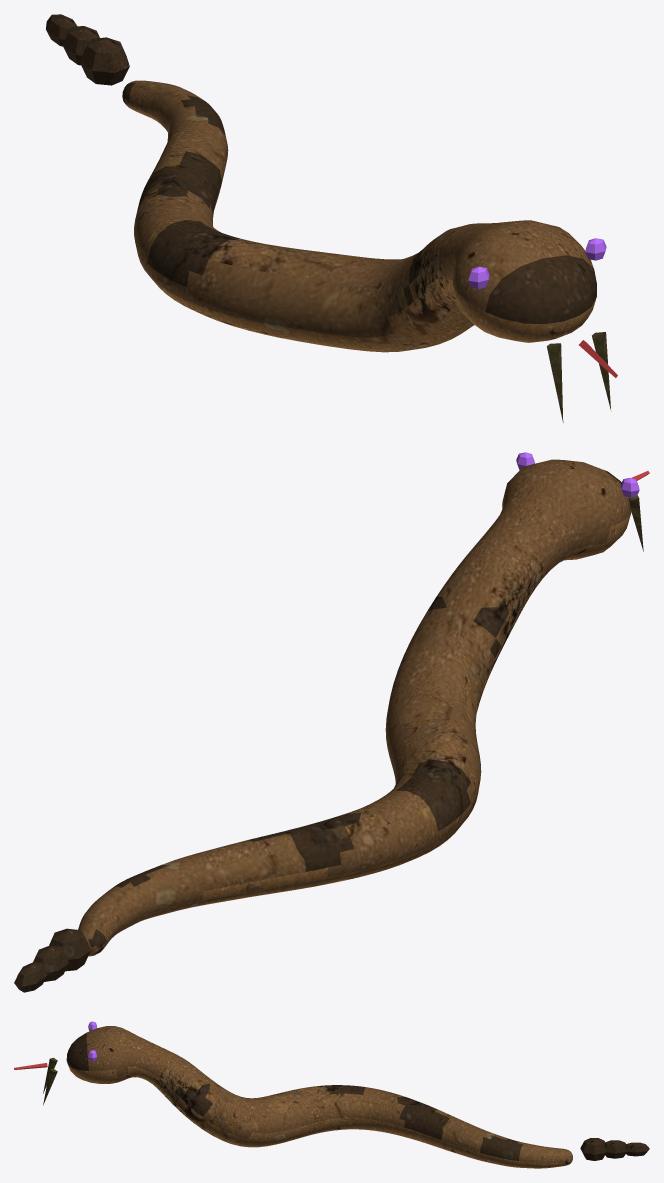
File: mon_serp_04.glb
3 views of the same model, one above another, from view 1: azimuth 30°, elevation 25°; view 2: azimuth 150°, elevation 25°; view 3: azimuth 270°, elevation 25° (orthographic). The views are drawn at different scales.
Visible parts, largest first — view 1: mon_serp_04; view 2: mon_serp_04; view 3: mon_serp_04.
Boxes of the visible parts, <box> form: mon_serp_04: <box>46,14,617,422</box>; mon_serp_04: <box>14,452,649,992</box>; mon_serp_04: <box>14,1021,649,1168</box>.
Bounding box in the file's own units: 0.3719 × 0.3729 × 1.84.
6 materials, 6 textured.
